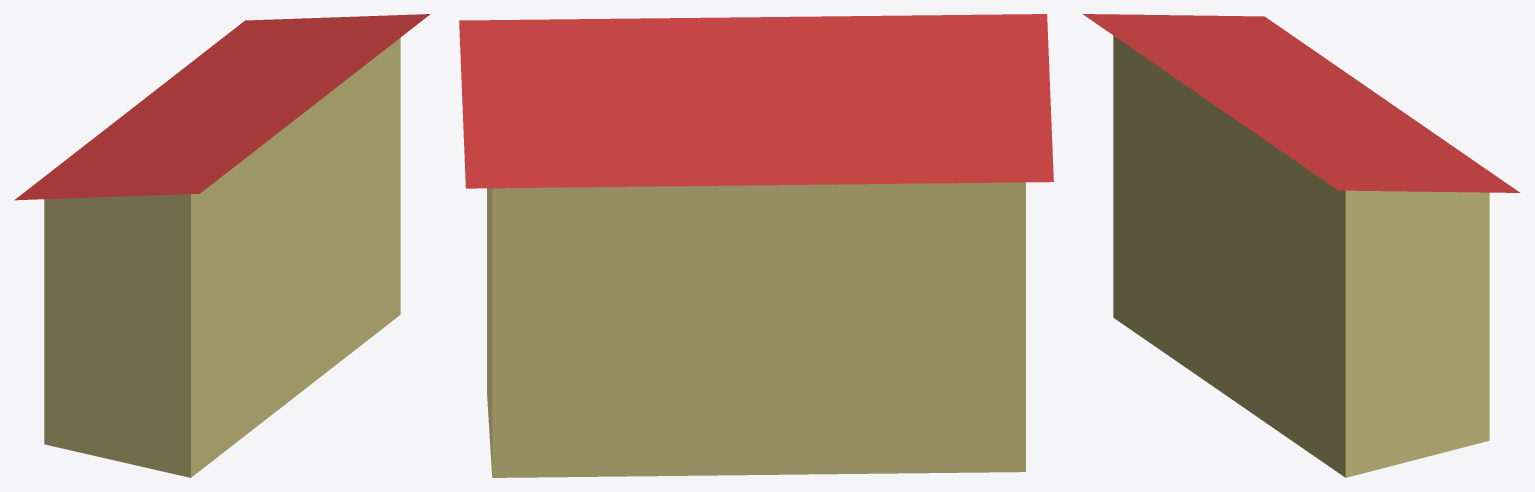
3 renders of one model, left to right at view 1: azimuth 30°, elevation 25°; view 2: azimuth 150°, elevation 25°; view 3: azimuth 270°, elevation 25°, orthographic. The views are drawn at different scales.
Bounding box in the file's own units: 11.73 × 9.71 × 7.34.
